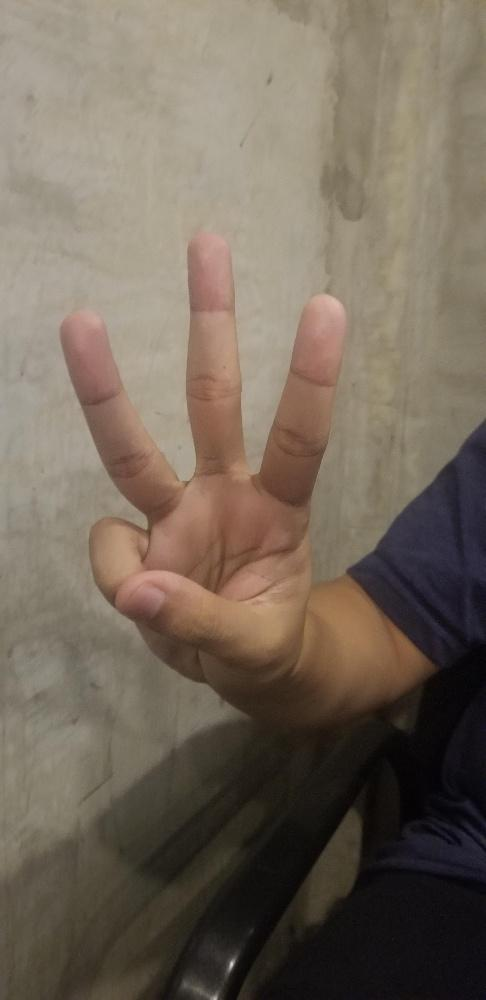w: (58, 230, 346, 702)
